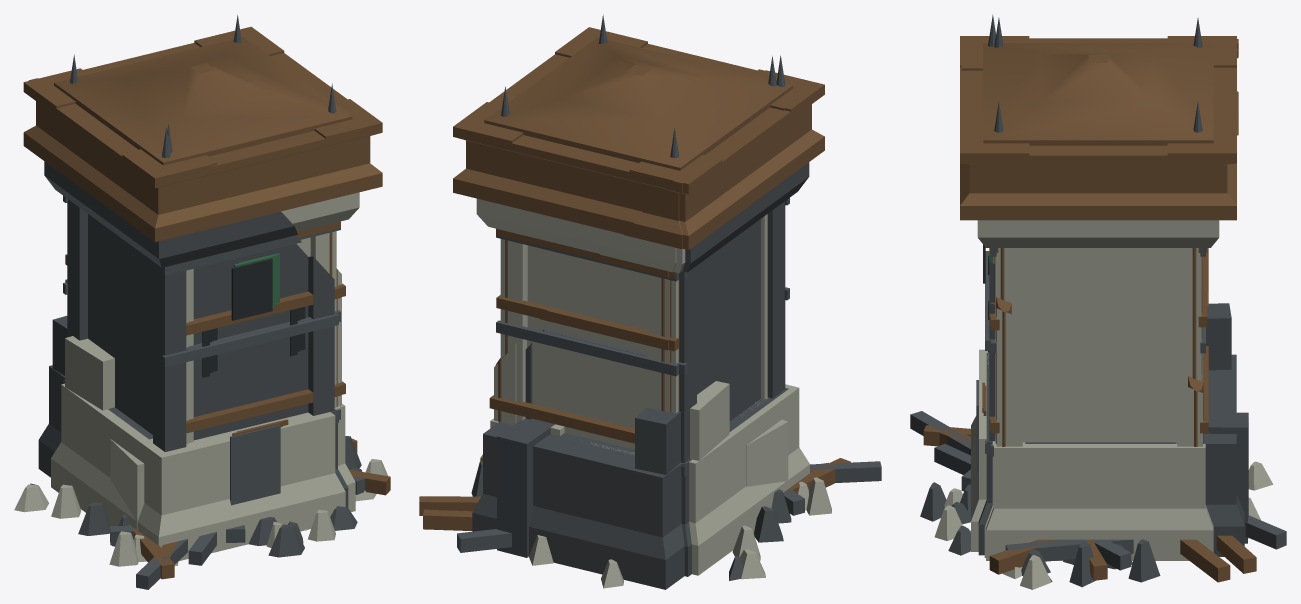
Rendered from vado_torres.glb.
3 views of the same model, side by side, from view 1: azimuth 30°, elevation 25°; view 2: azimuth 150°, elevation 25°; view 3: azimuth 270°, elevation 25° (orthographic). The views are drawn at different scales.
Visible parts, largest first — view 1: torre_rohan_1__tower-square-roof, torre_isengard_2__tower-square-mid, torre_rohan_3__tower-square-base, torre_isengard_2__tower-square-top, torre_isengard_2__puerta, torre_rohan_3__muro_roto, torre_isengard_2__cincha.002, torre_isengard_2__bandera, torre_rohan_2__tower-square-roof, torre_isengard_3__tower-square-base, torre_rohan_1__travesano, torre_rohan_3__muro_roto.002 (+20 smaller); view 2: torre_rohan_1__tower-square-roof, torre_isengard_3__tower-square-base, torre_isengard_2__tower-square-mid, torre_rohan_2__tower-square-mid, torre_rohan_3__tower-square-base, torre_rohan_1__tower-square-mid, torre_isengard_3__muro_roto.001, torre_rohan_1__tower-square-top, torre_rohan_2__tower-square-roof, torre_isengard_3__muro_roto, torre_isengard_2__tower-square-top, torre_rohan_3__muro_roto (+16 smaller); view 3: torre_rohan_1__tower-square-roof, torre_rohan_2__tower-square-base, torre_rohan_2__tower-square-mid, torre_rohan_1__tower-square-mid, torre_rohan_1__tower-square-top, torre_isengard_3__tower-square-base, torre_rohan_3__tower-square-base, torre_isengard_3__muro_roto.001, torre_isengard_3__muro_roto, torre_isengard_3__viga_caida.003, torre_rohan_2__viga_caida.002, torre_isengard_2__tower-square-base (+18 smaller).
Part boxes in pixels (x1,y1,x2,y2): torre_rohan_1__tower-square-roof: [23, 26, 382, 241]; torre_isengard_2__tower-square-mid: [67, 199, 334, 451]; torre_rohan_3__tower-square-base: [51, 383, 345, 560]; torre_isengard_2__tower-square-top: [44, 161, 297, 267]; torre_isengard_2__puerta: [230, 424, 280, 505]; torre_rohan_3__muro_roto: [65, 336, 114, 410]; torre_isengard_2__cincha.002: [162, 313, 338, 367]; torre_isengard_2__bandera: [231, 258, 272, 320]; torre_rohan_2__tower-square-roof: [28, 78, 251, 176]; torre_isengard_3__tower-square-base: [38, 365, 152, 477]; torre_rohan_1__travesano: [186, 383, 340, 433]; torre_rohan_3__muro_roto.002: [110, 439, 144, 530]; torre_rohan_1__tower-square-roof: [453, 27, 824, 250]; torre_isengard_3__tower-square-base: [472, 402, 759, 589]; torre_isengard_2__tower-square-mid: [525, 201, 785, 463]; torre_rohan_2__tower-square-mid: [494, 260, 669, 449]; torre_rohan_3__tower-square-base: [689, 384, 809, 575]; torre_rohan_1__tower-square-mid: [500, 214, 767, 422]; torre_isengard_3__muro_roto.001: [497, 418, 554, 557]; torre_rohan_1__tower-square-top: [476, 198, 685, 273]; torre_rohan_2__tower-square-roof: [623, 63, 817, 249]; torre_isengard_3__muro_roto: [635, 407, 680, 474]; torre_isengard_2__tower-square-top: [682, 162, 809, 272]; torre_rohan_3__muro_roto: [690, 381, 729, 460]; torre_rohan_1__tower-square-roof: [960, 36, 1236, 220]; torre_rohan_2__tower-square-base: [986, 444, 1213, 560]; torre_rohan_2__tower-square-mid: [996, 303, 1202, 446]; torre_rohan_1__tower-square-mid: [995, 248, 1201, 443]; torre_rohan_1__tower-square-top: [977, 220, 1219, 247]; torre_isengard_3__tower-square-base: [1025, 354, 1244, 556]; torre_rohan_3__tower-square-base: [971, 349, 988, 551]; torre_isengard_3__muro_roto.001: [1204, 412, 1248, 543]; torre_isengard_3__muro_roto: [1206, 303, 1231, 370]; torre_isengard_3__viga_caida.003: [1005, 539, 1133, 561]; torre_rohan_2__viga_caida.002: [1180, 539, 1230, 582]; torre_isengard_2__tower-square-base: [978, 353, 994, 555].
Size of the model in its own units: 5.34 by 7 by 5.29.
